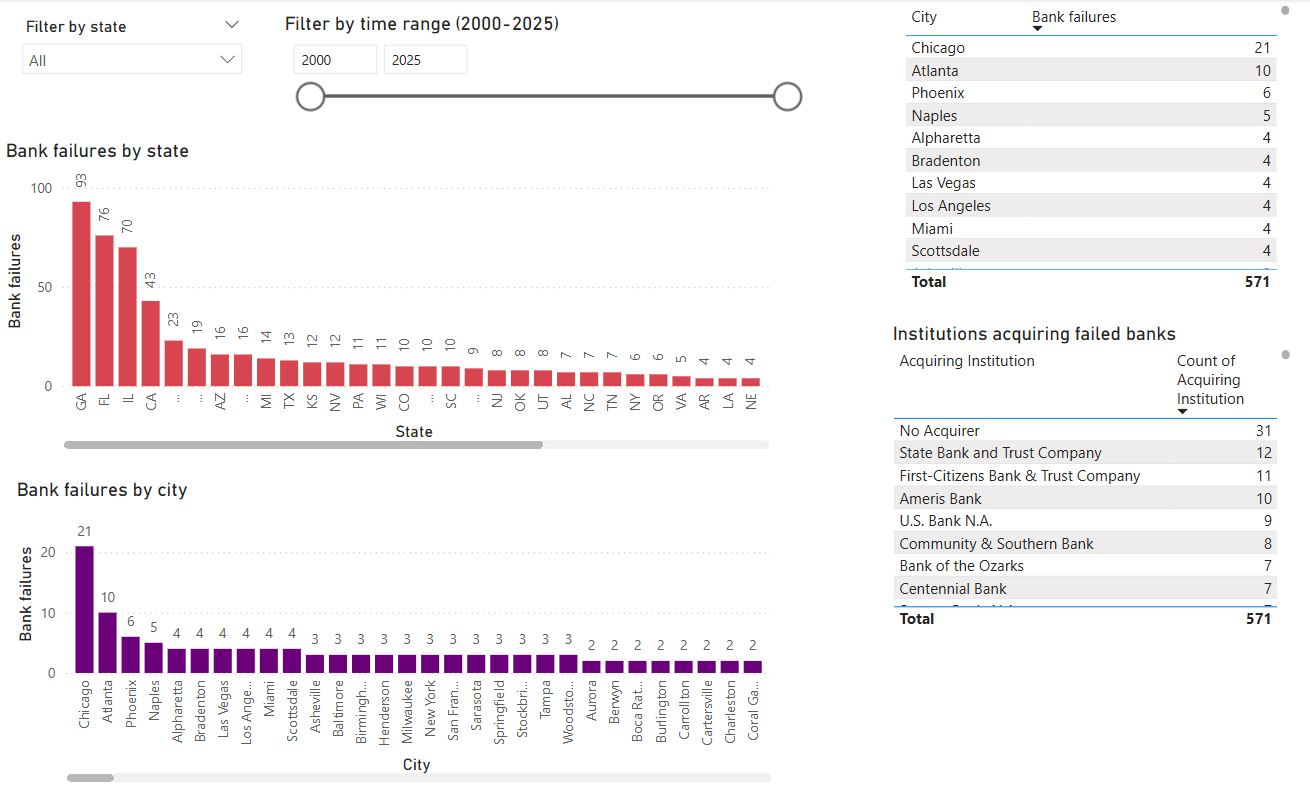

What the dashboard file says about the page in this screenshot:
{"tool":"powerbi","page":{"name":"Main","canvas":[1280,720],"ordinal":0},"visuals":[{"type":"slicer","fields":{"Values":["download-data.State "]},"box":[9.8,11.5,214.6,106.4],"z":0},{"type":"columnChart","title":"Bank failures by state","fields":{"Category":["download-data.State "],"Y":["CountNonNull(download-data.State )"]},"box":[0,124.1,687.2,280.2],"z":1000},{"type":"columnChart","title":"Bank failures by city","fields":{"Category":["download-data.City "],"Y":["CountNonNull(download-data.City )"]},"box":[9.8,424.7,679.2,274.9],"z":2000},{"type":"tableEx","title":"Bank failures by city","fields":{"Values":["download-data.City ","CountNonNull(download-data.City )"]},"box":[797.1,0,352,264.2],"z":3000},{"type":"slicer","title":"Filter by time range (2000-2025)","fields":{"Values":["download-data.custom_year_as_text"]},"box":[247.4,11.5,472.6,106.4],"z":4000},{"type":"tableEx","title":"Institutions acquiring failed banks","fields":{"Values":["download-data.Acquiring Institution ","CountNonNull(download-data.Acquiring Institution )"]},"box":[786.5,286.4,362.7,276.7],"z":5000}]}

Visuals, with their boxes on the page's 1280x720 design canvas (x1, y1, x2, y2). These are canvas units, not pixel positions in the 1310x809 screenshot, which may show the page scaled, cropped or inside an application window:
slicer - download-data.State : <region>10, 12, 224, 118</region>
"Bank failures by state" columnChart: <region>0, 124, 687, 404</region>
"Bank failures by city" columnChart: <region>10, 425, 689, 700</region>
"Bank failures by city" tableEx: <region>797, 0, 1149, 264</region>
"Filter by time range (2000-2025)" slicer: <region>247, 12, 720, 118</region>
"Institutions acquiring failed banks" tableEx: <region>786, 286, 1149, 563</region>
